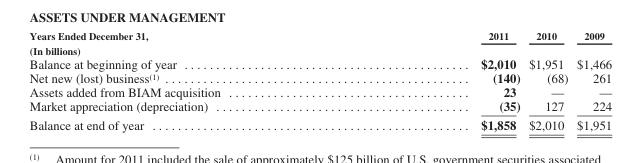table: (28, 29, 611, 132)
table column: (28, 29, 350, 132), (350, 29, 523, 132), (523, 29, 571, 132), (571, 29, 611, 132)
table column header: (28, 29, 611, 42)
table projected row header: (28, 42, 611, 56)
table row: (28, 98, 611, 115), (28, 115, 611, 132), (28, 42, 611, 56), (28, 56, 611, 70), (28, 70, 611, 84), (28, 84, 611, 98), (28, 29, 611, 42)
